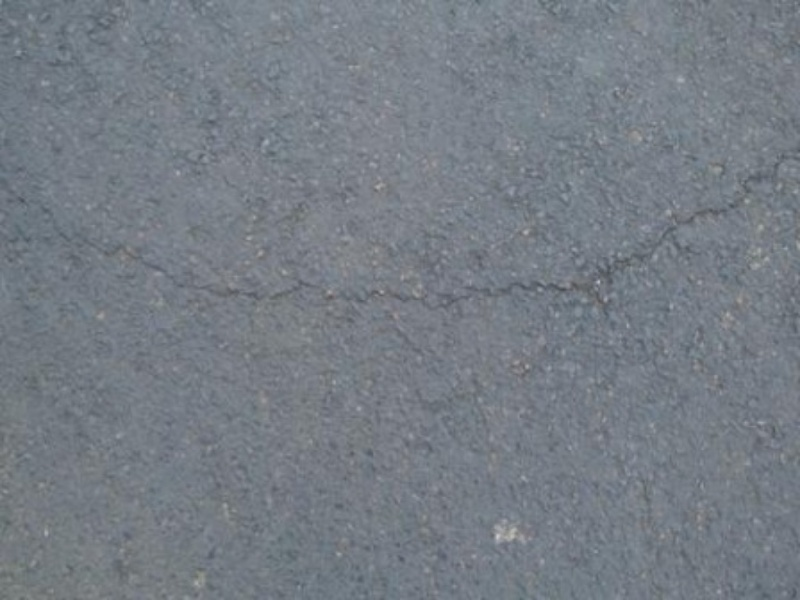crack: (26, 142, 790, 333)
